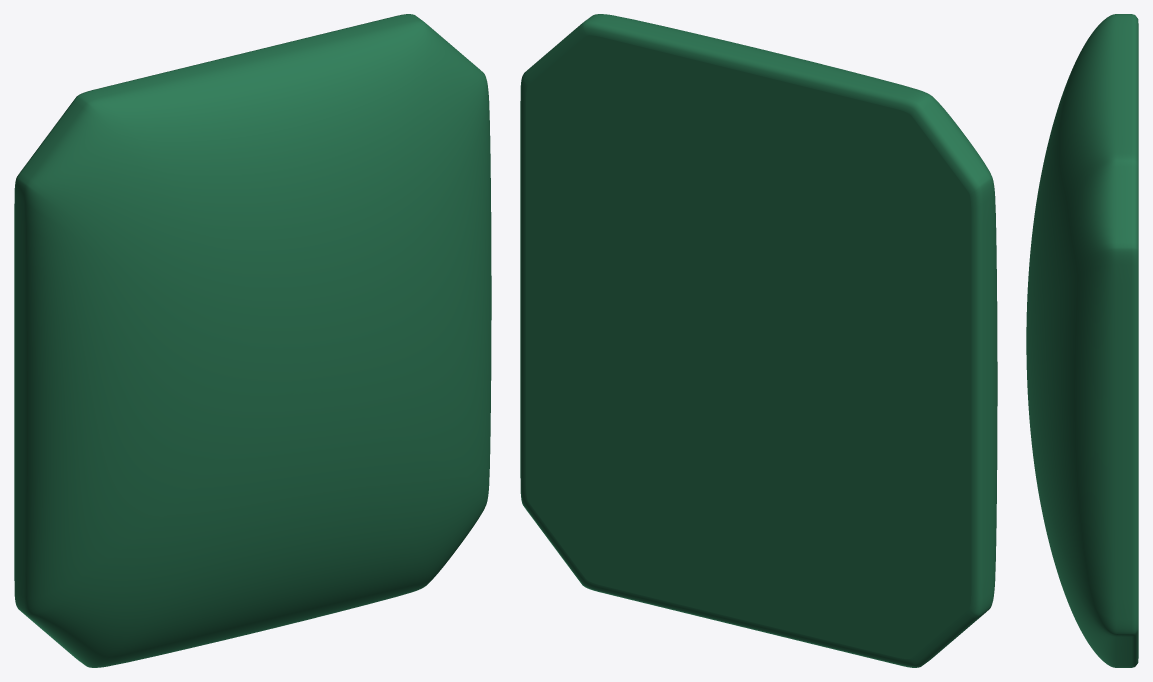
File: emerald-octagon.glb
3 renders of one model, left to right at view 1: azimuth 30°, elevation 25°; view 2: azimuth 150°, elevation 25°; view 3: azimuth 270°, elevation 25°, orthographic. The views are drawn at different scales.
Visible parts, largest first — view 1: Emerald-Octagon Cabochon 20x17x4mm; view 2: Emerald-Octagon Cabochon 20x17x4mm; view 3: Emerald-Octagon Cabochon 20x17x4mm.
Boxes of the visible parts, x1,y1,x2,y2 form: Emerald-Octagon Cabochon 20x17x4mm: [14, 14, 491, 667]; Emerald-Octagon Cabochon 20x17x4mm: [520, 14, 997, 667]; Emerald-Octagon Cabochon 20x17x4mm: [1026, 14, 1138, 667].
Bounding box in the file's own units: 0.017 × 0.02 × 0.00398.
